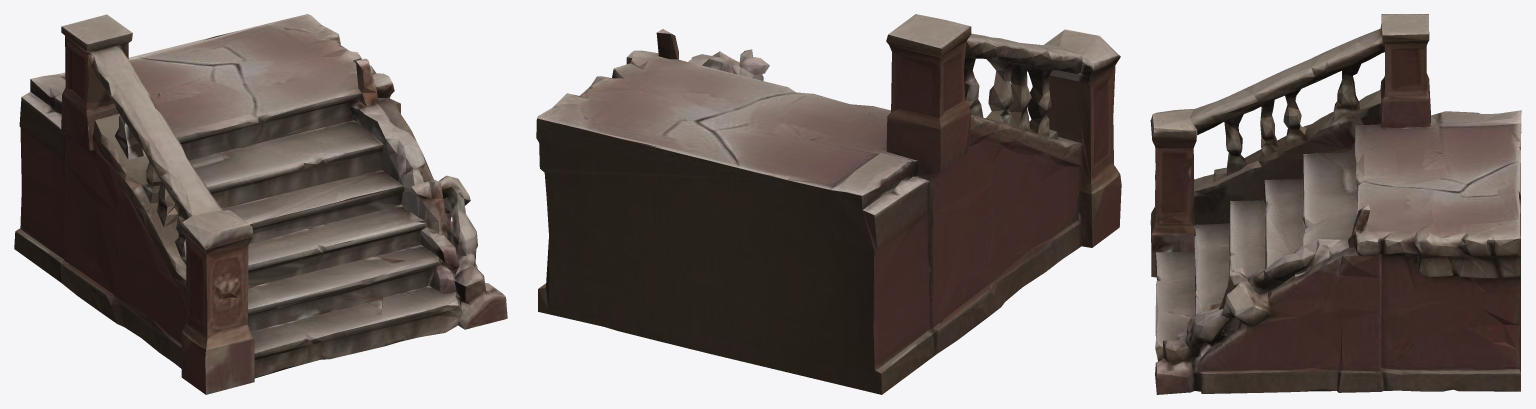
The model's file is park_broken_stair_1117.glb.
The picture shows the model from 3 angles, left to right: view 1: azimuth 30°, elevation 25°; view 2: azimuth 150°, elevation 25°; view 3: azimuth 270°, elevation 25°; orthographic projection. The views are drawn at different scales.
Visible parts, largest first — view 1: world; view 2: world; view 3: world.
Part boxes in pixels (left/top/right/bottom): world: left=14, top=14, right=507, bottom=394; world: left=536, top=14, right=1121, bottom=394; world: left=1150, top=14, right=1521, bottom=394.
Size of the model in its own units: 1.25 by 1 by 1.38.
Materials: 1 (1 with a texture image).
